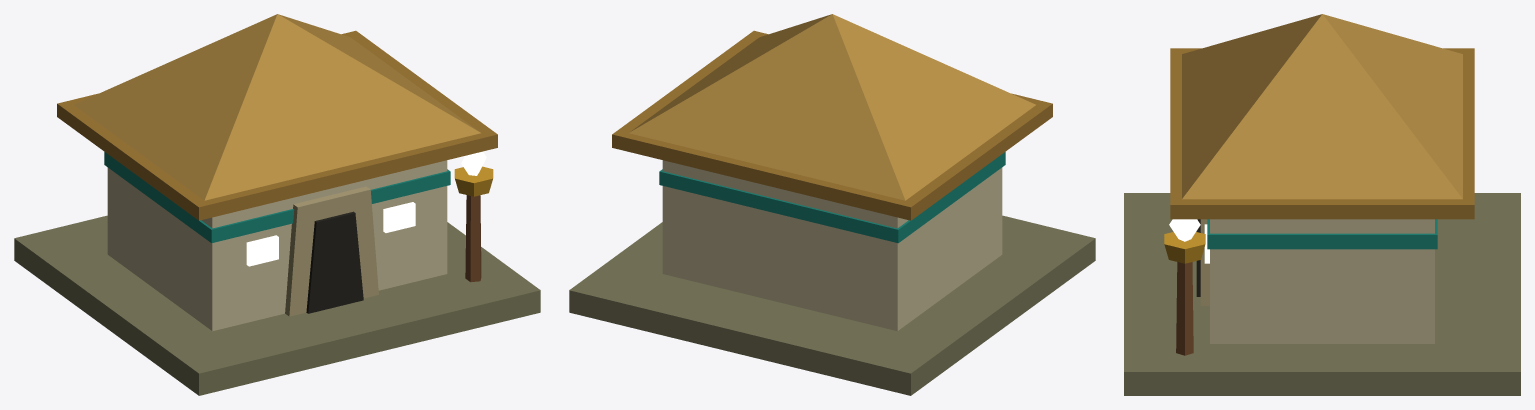
Rendered from house_t2.glb.
3 renders of one model, left to right at view 1: azimuth 30°, elevation 25°; view 2: azimuth 150°, elevation 25°; view 3: azimuth 270°, elevation 25°, orthographic. The views are drawn at different scales.
Visible parts, largest first — view 1: body, glow; view 2: body; view 3: body, glow.
Part boxes in pixels (<box>): body: <box>14,14,540,395</box>; glow: <box>246,151,486,266</box>; body: <box>569,14,1095,395</box>; body: <box>1124,14,1520,395</box>; glow: <box>1169,219,1209,263</box>.
Bounding box in the file's own units: 1.6 × 1.22 × 1.5.
